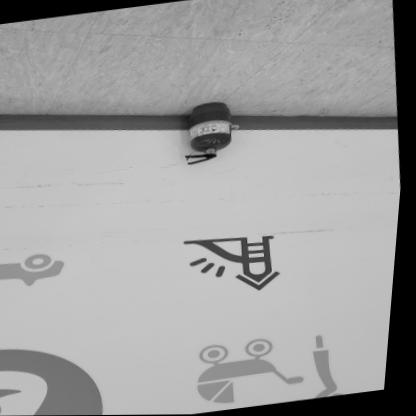FE: (179, 98, 240, 166)
